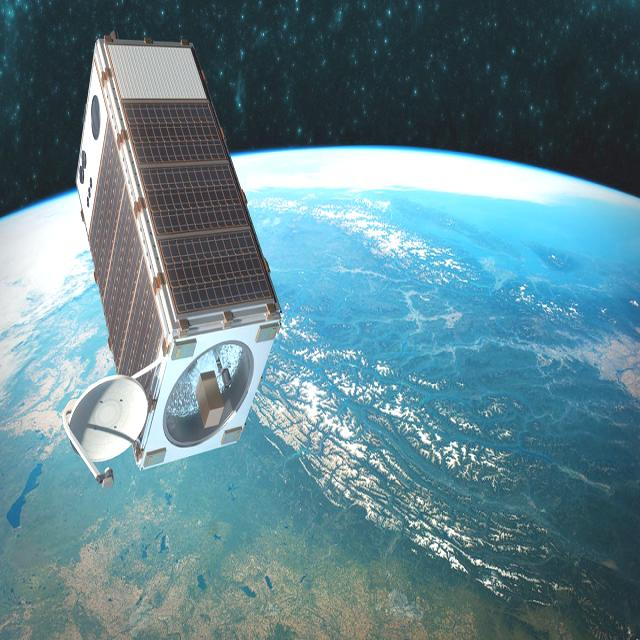medium_debris: (160, 32, 293, 280)
